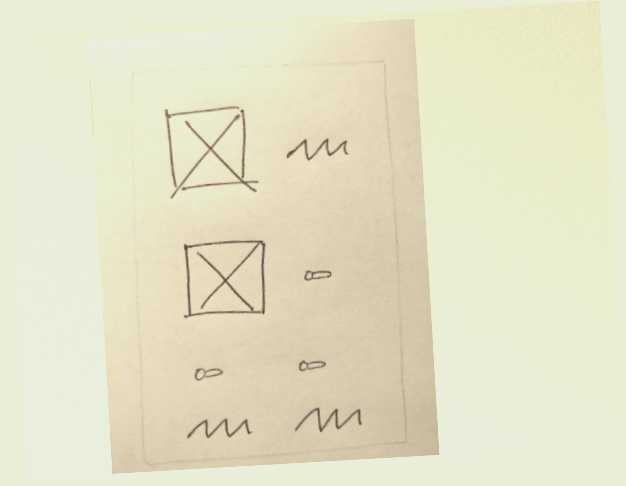image: (160, 97, 265, 205), (173, 229, 279, 327)
switch: (291, 348, 339, 382), (184, 361, 238, 388), (298, 264, 339, 289)
text: (285, 396, 372, 441), (280, 130, 357, 171), (177, 409, 261, 445)
